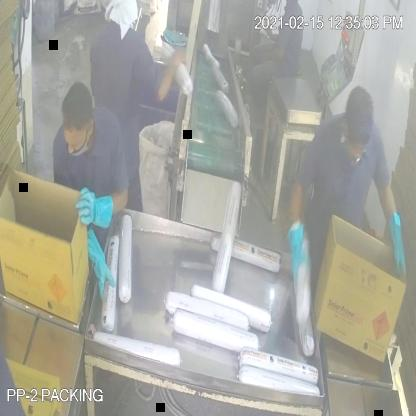glove: (281, 210, 314, 303), (80, 226, 116, 305), (380, 208, 412, 290), (72, 185, 116, 236)
no_glove: (160, 42, 193, 102)
